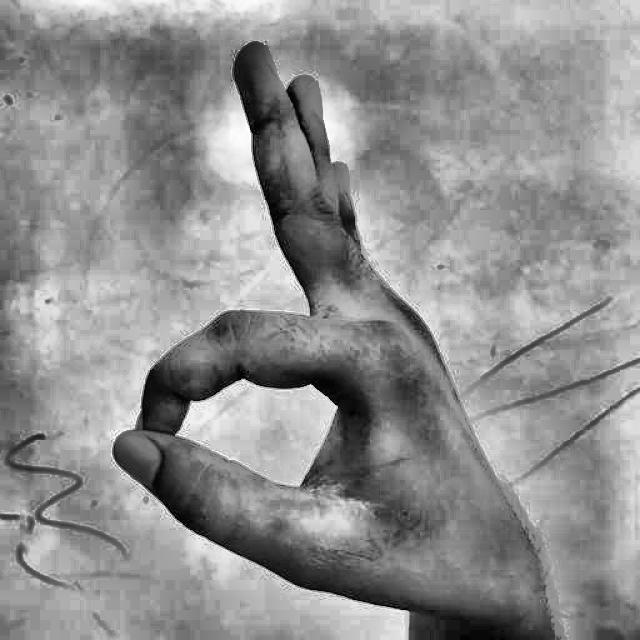Ca: (84, 22, 567, 638)
